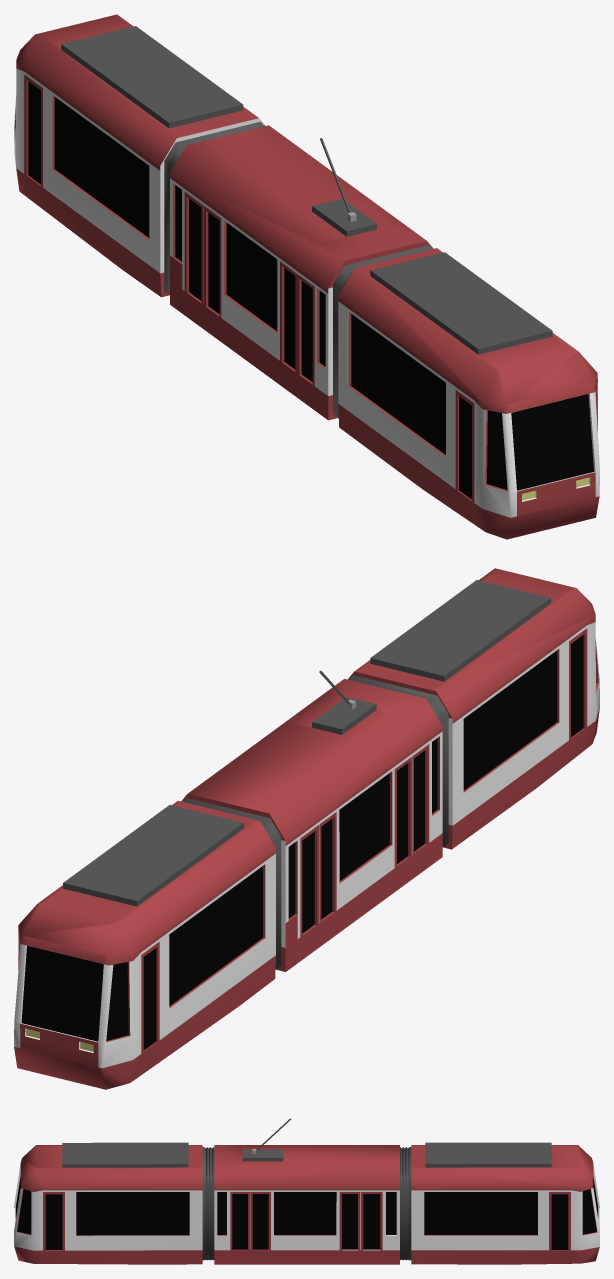
Rendered from StreetCar_Model.fbx.
3 views of the same model, one above another, from view 1: azimuth 30°, elevation 25°; view 2: azimuth 150°, elevation 25°; view 3: azimuth 270°, elevation 25° (orthographic). The views are drawn at different scales.
Parts seen in each view (by area): view 1: First, Second, Third, Middle2, Middle1; view 2: Third, Second, First, Middle1, Middle2; view 3: Third, First, Second, Middle1, Middle2.
Boxes of the visible parts, x1,y1,x2,y2 form: First: (338, 248, 599, 539); Second: (170, 125, 433, 420); Third: (14, 14, 265, 297); Middle2: (164, 122, 264, 294); Middle1: (333, 245, 432, 417); Third: (14, 801, 275, 1089); Second: (181, 679, 442, 971); First: (348, 568, 599, 849); Middle1: (348, 675, 448, 846); Middle2: (182, 797, 281, 969); Third: (411, 1142, 599, 1264); First: (14, 1142, 202, 1264); Second: (214, 1145, 399, 1264); Middle1: (202, 1147, 214, 1260); Middle2: (400, 1147, 411, 1260).
Bounding box in the file's own units: 230 × 418 × 1713.
